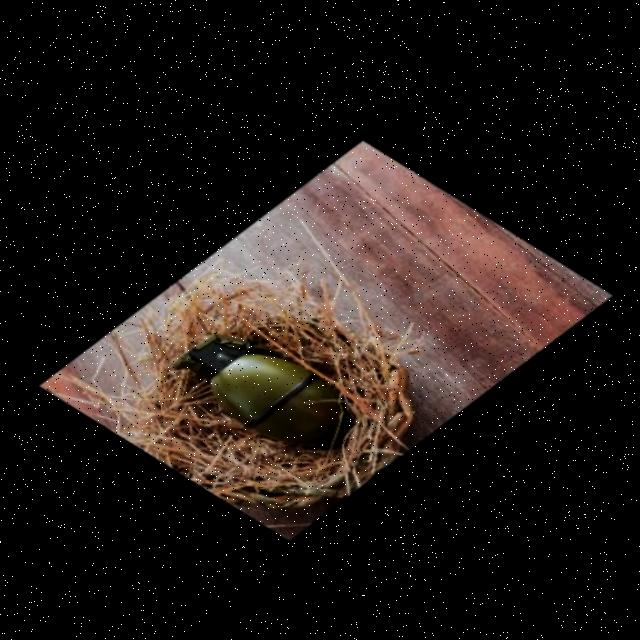grenade: (150, 300, 364, 483)
